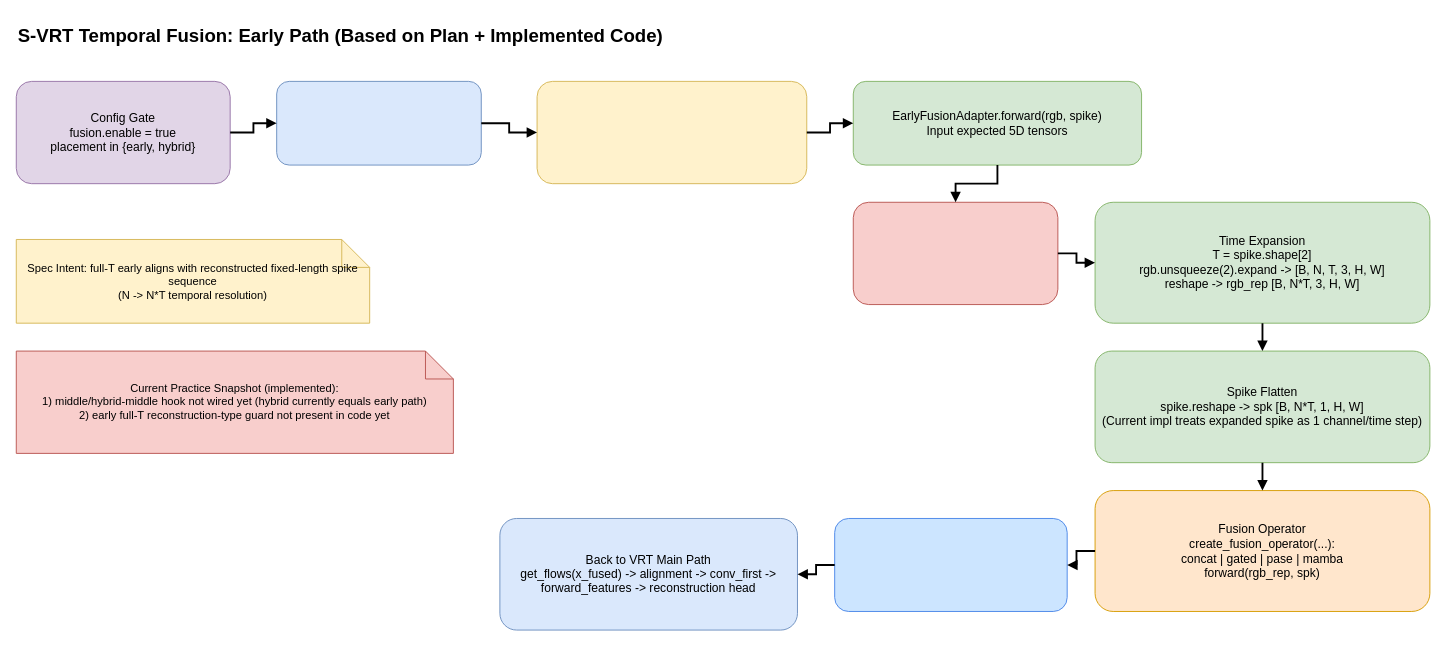
Image size: 1446x646. Some labels were removed from this diagram. The shapes that lost their labels are listed below. From the top down, each one's centre as x and y in pixels, then its label:
At point (378, 122): "VRT Input x shape: [B, N, C, H, W]".
At point (671, 132): "Split Modalities rgb = x[:, :, :3, :, :] spike = x[:, :, 3:, :, :]".
At point (955, 253): "Shape Checks rgb, spike must share: (B, N, H, W)".
At point (950, 564): "Fused Sequence x_fused: [B, N*T, out_chans, H, W] (early/hybrid-early output)".
